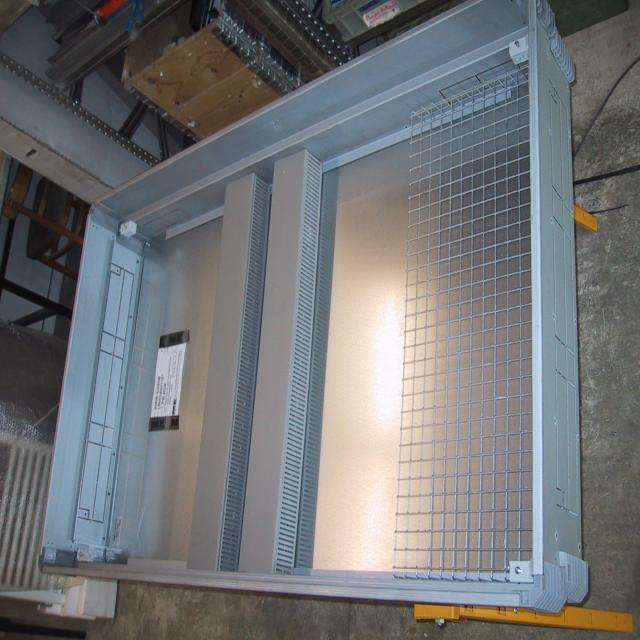Schaltkasten: (39, 0, 591, 611)
